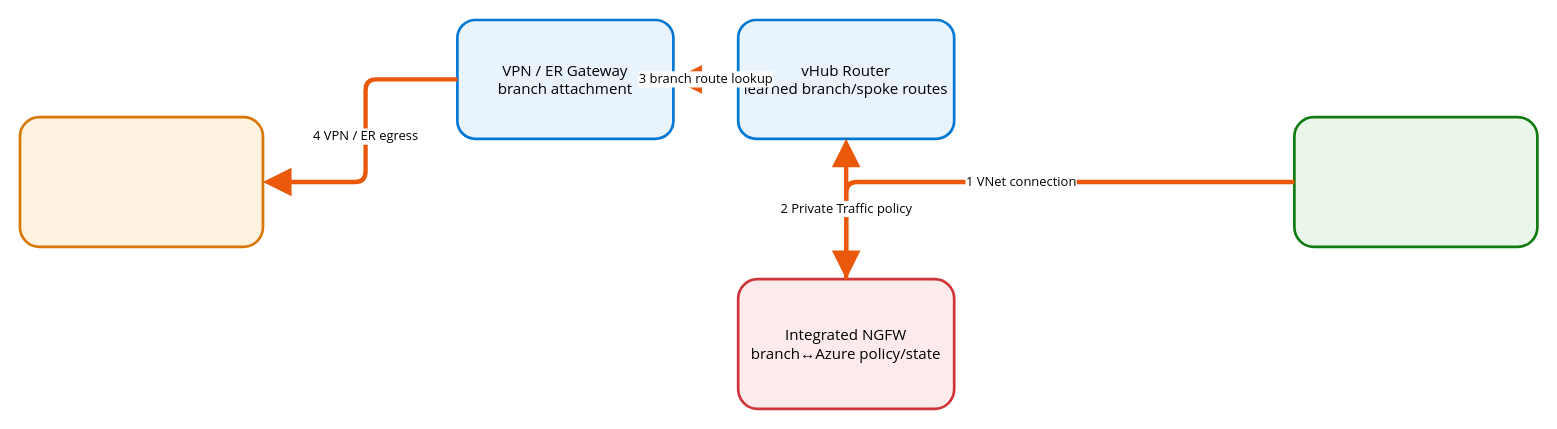
The diagram is 1557 pixels wide and 429 high, and some of its shapes have lost their labels. The shapes that lost their labels are listed below. From the top down, each one's centre as x and y in pixels, then its label:
At point 141,181: "Branch host 10.50.1.25".
At point 1415,181: "VM-A 10.10.1.4".
